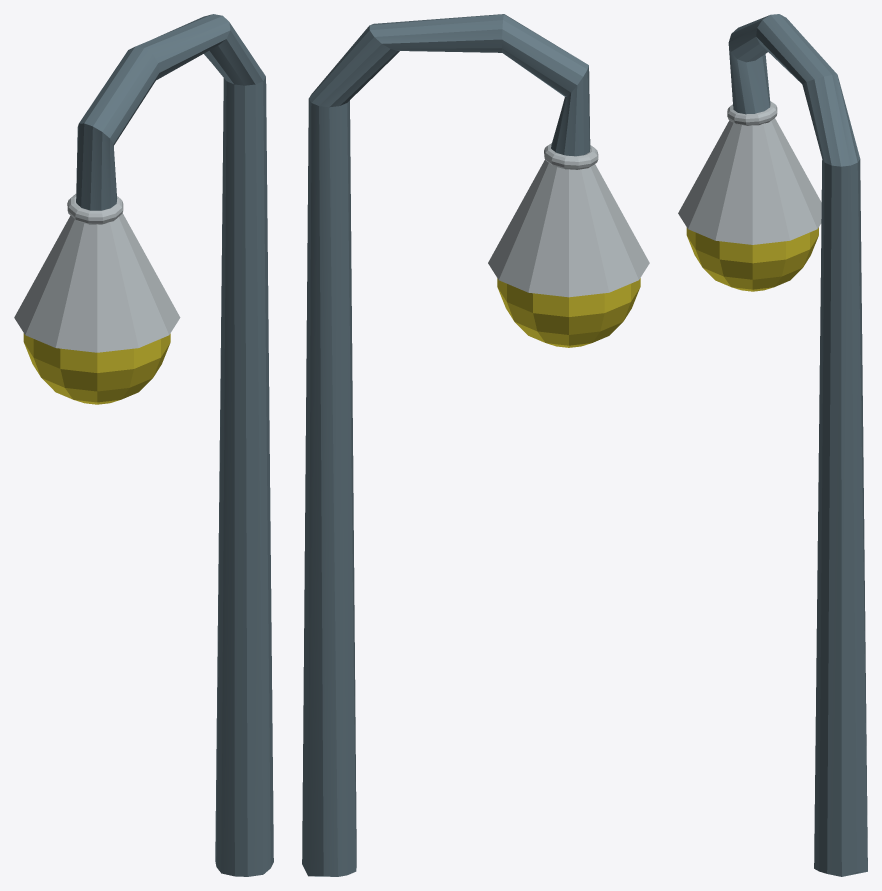
3 renders of one model, left to right at view 1: azimuth 30°, elevation 25°; view 2: azimuth 150°, elevation 25°; view 3: azimuth 270°, elevation 25°, orthographic. The views are drawn at different scales.
Parts seen in each view (by area): view 1: node_MeshObject2093242368-PolyPaper21; view 2: node_MeshObject2093242368-PolyPaper21; view 3: node_MeshObject2093242368-PolyPaper21.
Part boxes in pixels (left/top/right/bottom): node_MeshObject2093242368-PolyPaper21: left=14, top=14, right=273, bottom=876; node_MeshObject2093242368-PolyPaper21: left=302, top=14, right=649, bottom=876; node_MeshObject2093242368-PolyPaper21: left=678, top=14, right=867, bottom=876.
Bounding box in the file's own units: 1 × 2.86 × 0.6222.
